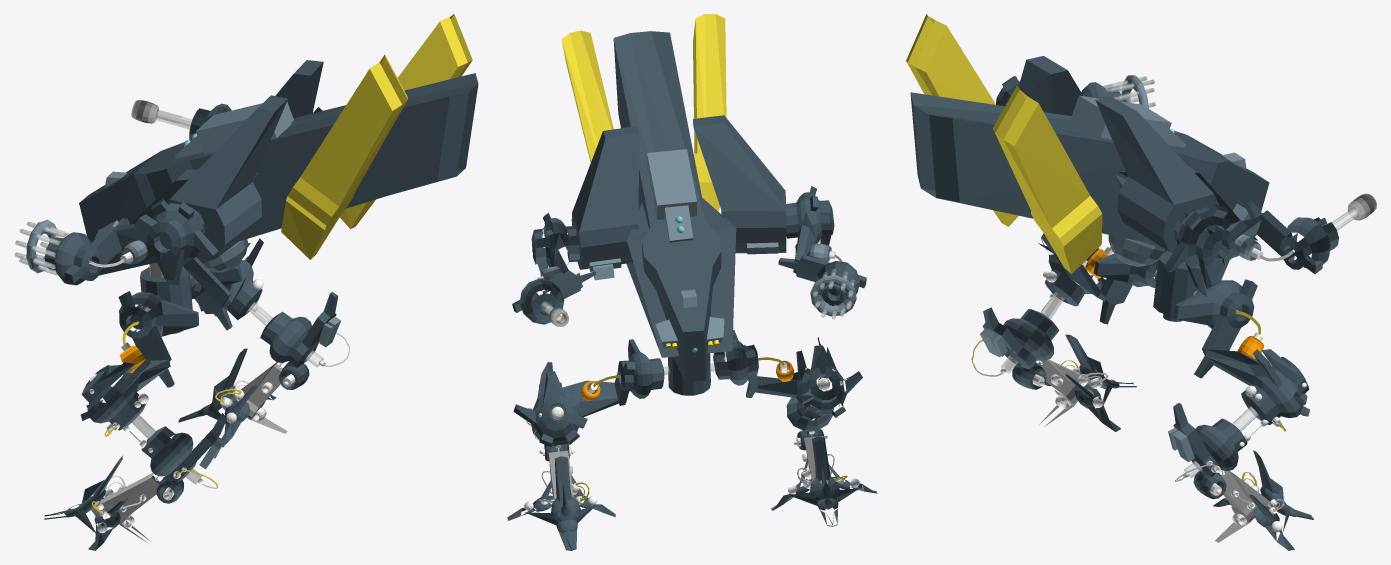
The model's file is mech_concept_51h2ELk0o6n.glb.
3 views of the same model, side by side, from view 1: azimuth 30°, elevation 25°; view 2: azimuth 150°, elevation 25°; view 3: azimuth 270°, elevation 25° (orthographic). The views are drawn at different scales.
Visible parts, largest first — view 1: Node; view 2: Node; view 3: Node.
Boxes of the visible parts, <box> form: Node: <box>14,14,478,550</box>; Node: <box>507,14,877,550</box>; Node: <box>906,14,1376,550</box>.
Size of the model in its own units: 4.54 by 5.38 by 4.5.
